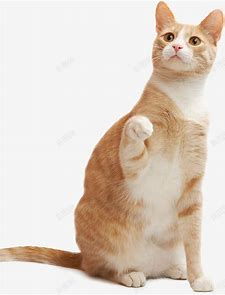cat: (9, 6, 219, 291)
